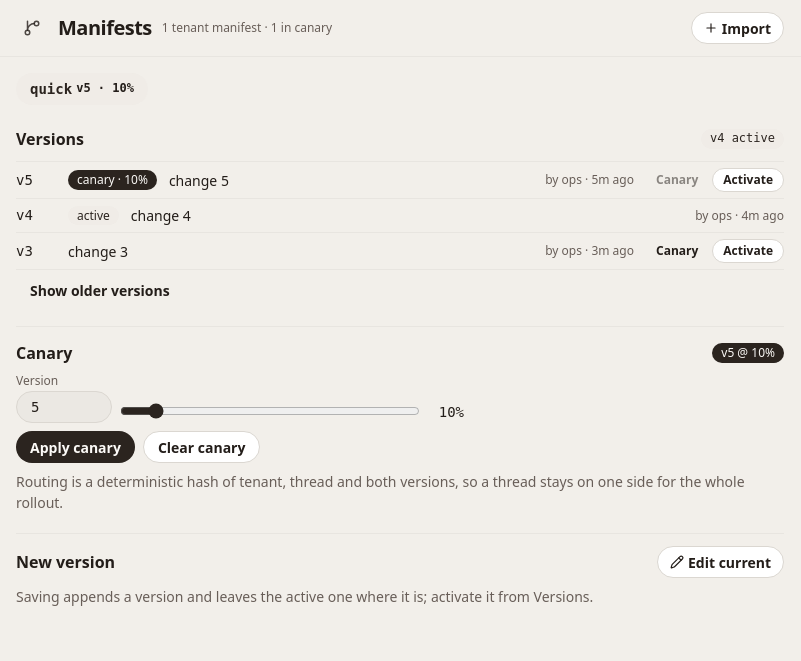
the version log › pages older versions with the cursor the harness gave
Expected: the list named "Versions of quick" is shown, left=16, top=161, right=784, bottom=270
Click the button "Show older versions" at x=100, y=290, box left=16, top=274, right=184, bottom=306
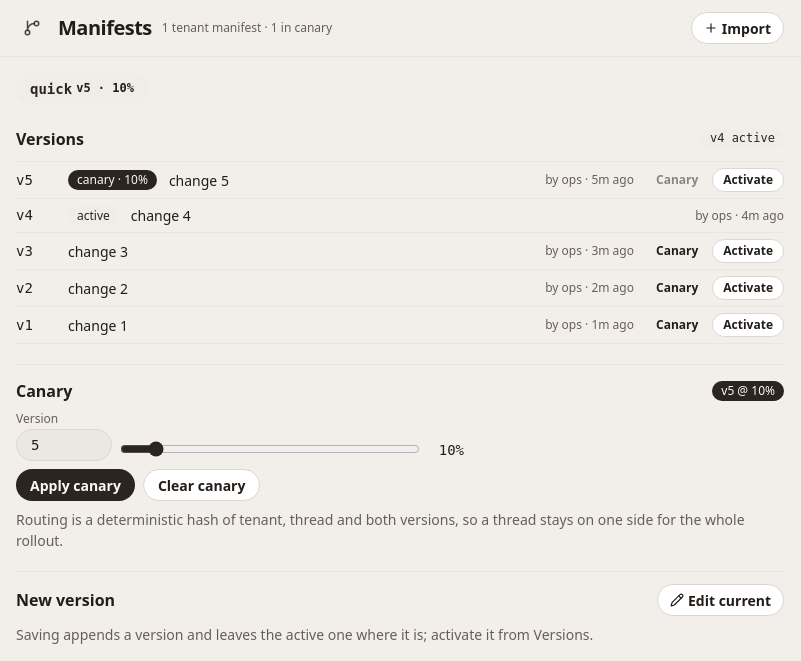
Expected: the button "Show older versions" is gone
